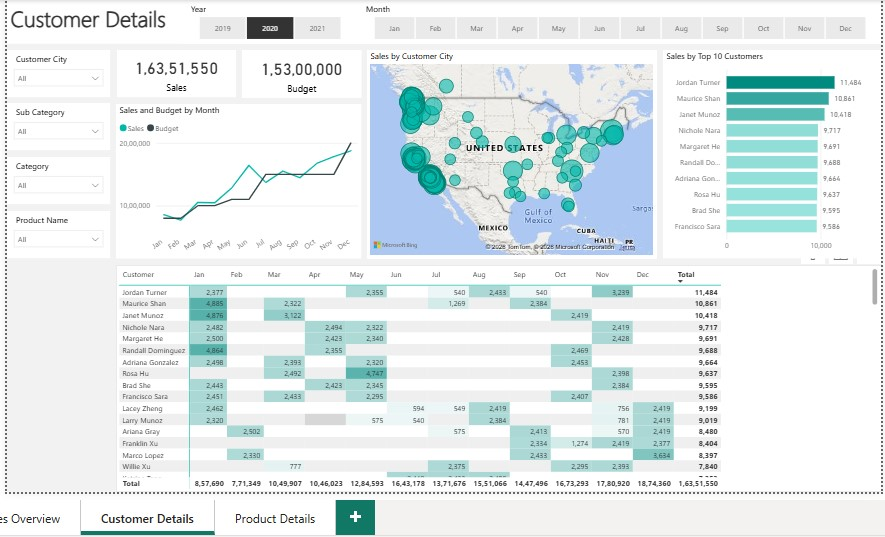

What the dashboard file says about the page in this screenshot:
{"tool":"powerbi","page":{"name":"Customer Details","canvas":[1280,720],"ordinal":1},"visuals":[{"type":"textbox","box":[0,0,1280,64],"z":0},{"type":"slicer","fields":{"Values":["DIM_Calendar.Year"]},"box":[256,0,256,64],"z":1000},{"type":"slicer","fields":{"Values":["DIM_Calendar.MonthShort"]},"box":[512,0,768,64],"z":2000},{"type":"slicer","fields":{"Values":["DIM_Customers.Customer City"]},"box":[0,73,150.5,69.3],"z":3000},{"type":"slicer","fields":{"Values":["DIM_Products.Product Category"]},"box":[0,229.9,150.5,69.3],"z":4000},{"type":"slicer","fields":{"Values":["DIM_Products.Product Name"]},"box":[0,308.4,150.5,69.3],"z":5000},{"type":"slicer","fields":{"Values":["DIM_Products.Sub Category"]},"box":[0,151.4,150.5,69.3],"z":6000},{"type":"lineChart","fields":{"Category":["DIM_Calendar.MonthShort"],"Y":["Analysis Metrics.Sales","Analysis Metrics.Budget"]},"box":[159.8,151.8,358.7,226.4],"z":7000},{"type":"card","fields":{"Values":["Analysis Metrics.Sales"]},"box":[160.7,72.8,174,69.2],"z":8000},{"type":"map","fields":{"Category":["DIM_Customers.Customer City"],"Size":["Analysis Metrics.Sales"]},"box":[527.3,72.8,423.5,304.5],"z":9000},{"type":"card","fields":{"Values":["Analysis Metrics.Budget"]},"box":[343.6,72.8,174.9,70.1],"z":10000},{"type":"pivotTable","fields":{"Rows":["DIM_Customers.Full Name"],"Columns":["DIM_Calendar.MonthShort"],"Values":["Analysis Metrics.Sales"]},"box":[159.8,387.1,1120.4,332.9],"z":11000},{"type":"barChart","title":"Sales by Top 10 Customers","fields":{"Category":["DIM_Customers.Full Name"],"Y":["Analysis Metrics.Sales"]},"box":[959.7,72.8,320.5,304.5],"z":12000}]}

Visuals, with their boxes on the page's 1280x720 design canvas (x1, y1, x2, y2). These are canvas units, not pixel positions in the 885x537 screenshot, which may show the page scaled, cropped or inside an application window:
textbox: 0/0/1280/64
slicer - DIM_Calendar.Year: 256/0/512/64
slicer - DIM_Calendar.MonthShort: 512/0/1280/64
slicer - DIM_Customers.Customer City: 0/73/150/142
slicer - DIM_Products.Product Category: 0/230/150/299
slicer - DIM_Products.Product Name: 0/308/150/378
slicer - DIM_Products.Sub Category: 0/151/150/221
lineChart - DIM_Calendar.MonthShort x Analysis Metrics.Sales: 160/152/518/378
card - Analysis Metrics.Sales: 161/73/335/142
map - DIM_Customers.Customer City x Analysis Metrics.Sales: 527/73/951/377
card - Analysis Metrics.Budget: 344/73/518/143
pivotTable - DIM_Customers.Full Name x DIM_Calendar.MonthShort: 160/387/1280/720
"Sales by Top 10 Customers" barChart: 960/73/1280/377
